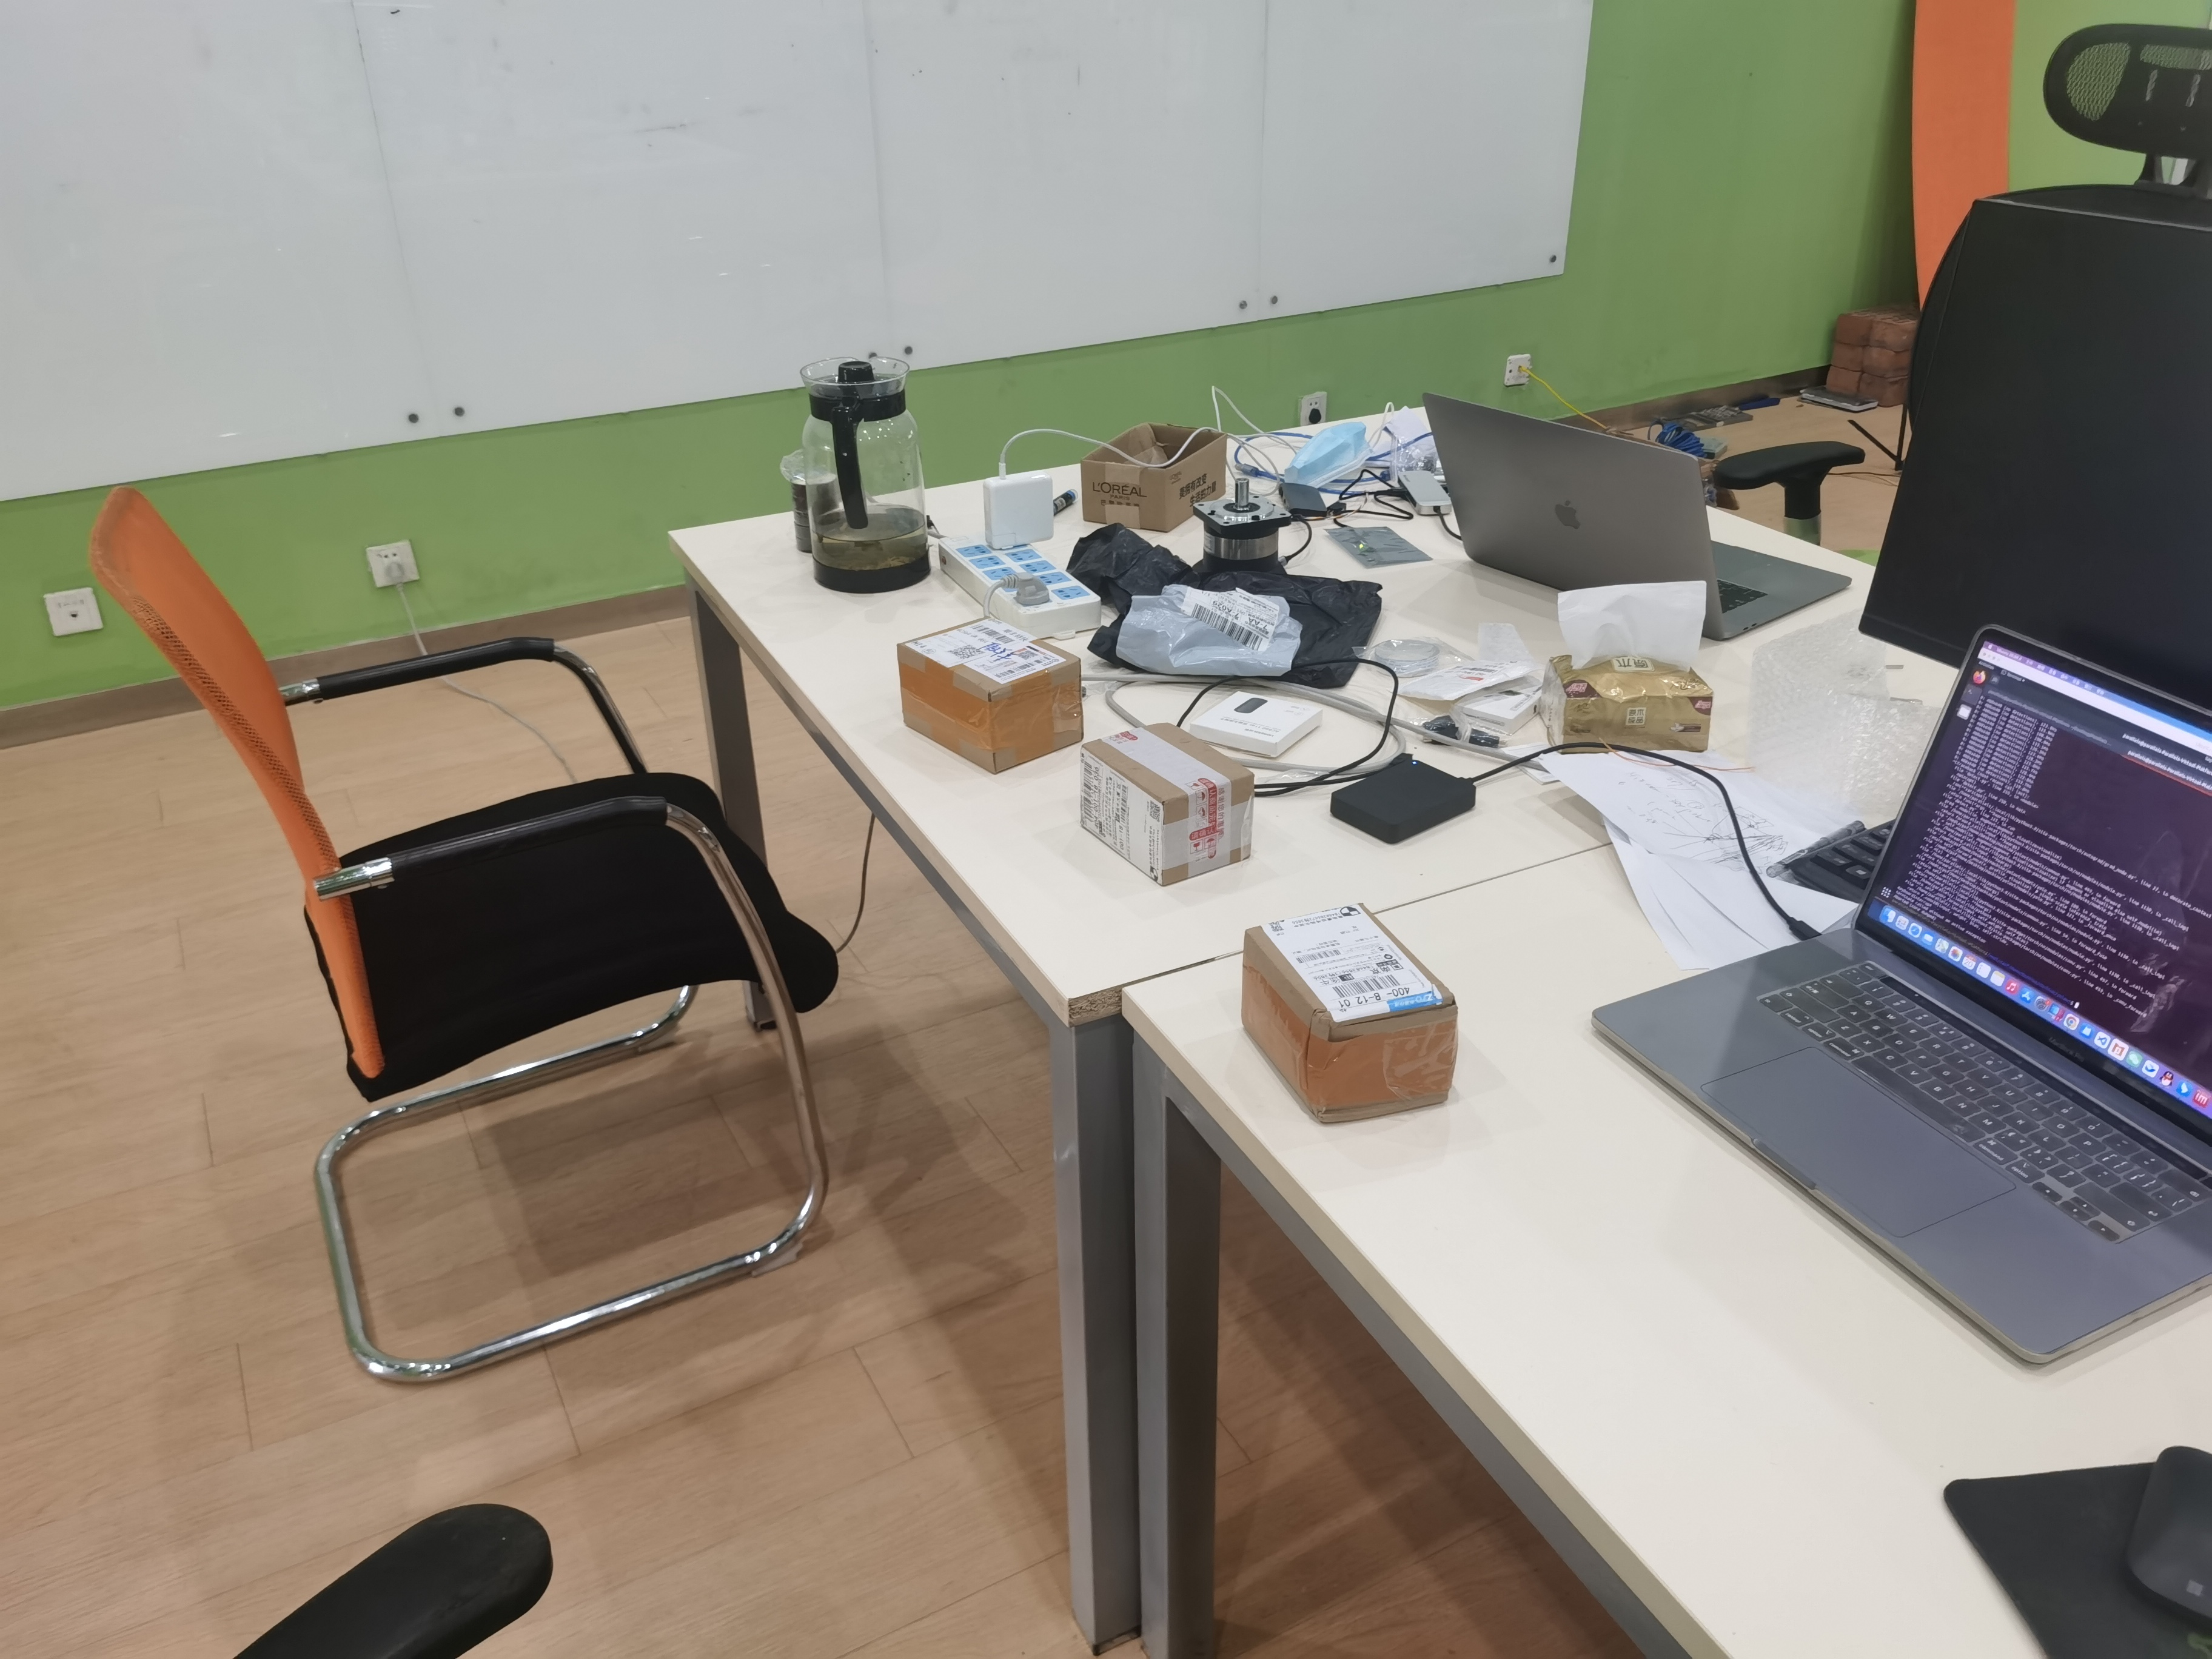box: (1237, 904, 1458, 1122), (887, 617, 1087, 779), (1075, 723, 1258, 889)
